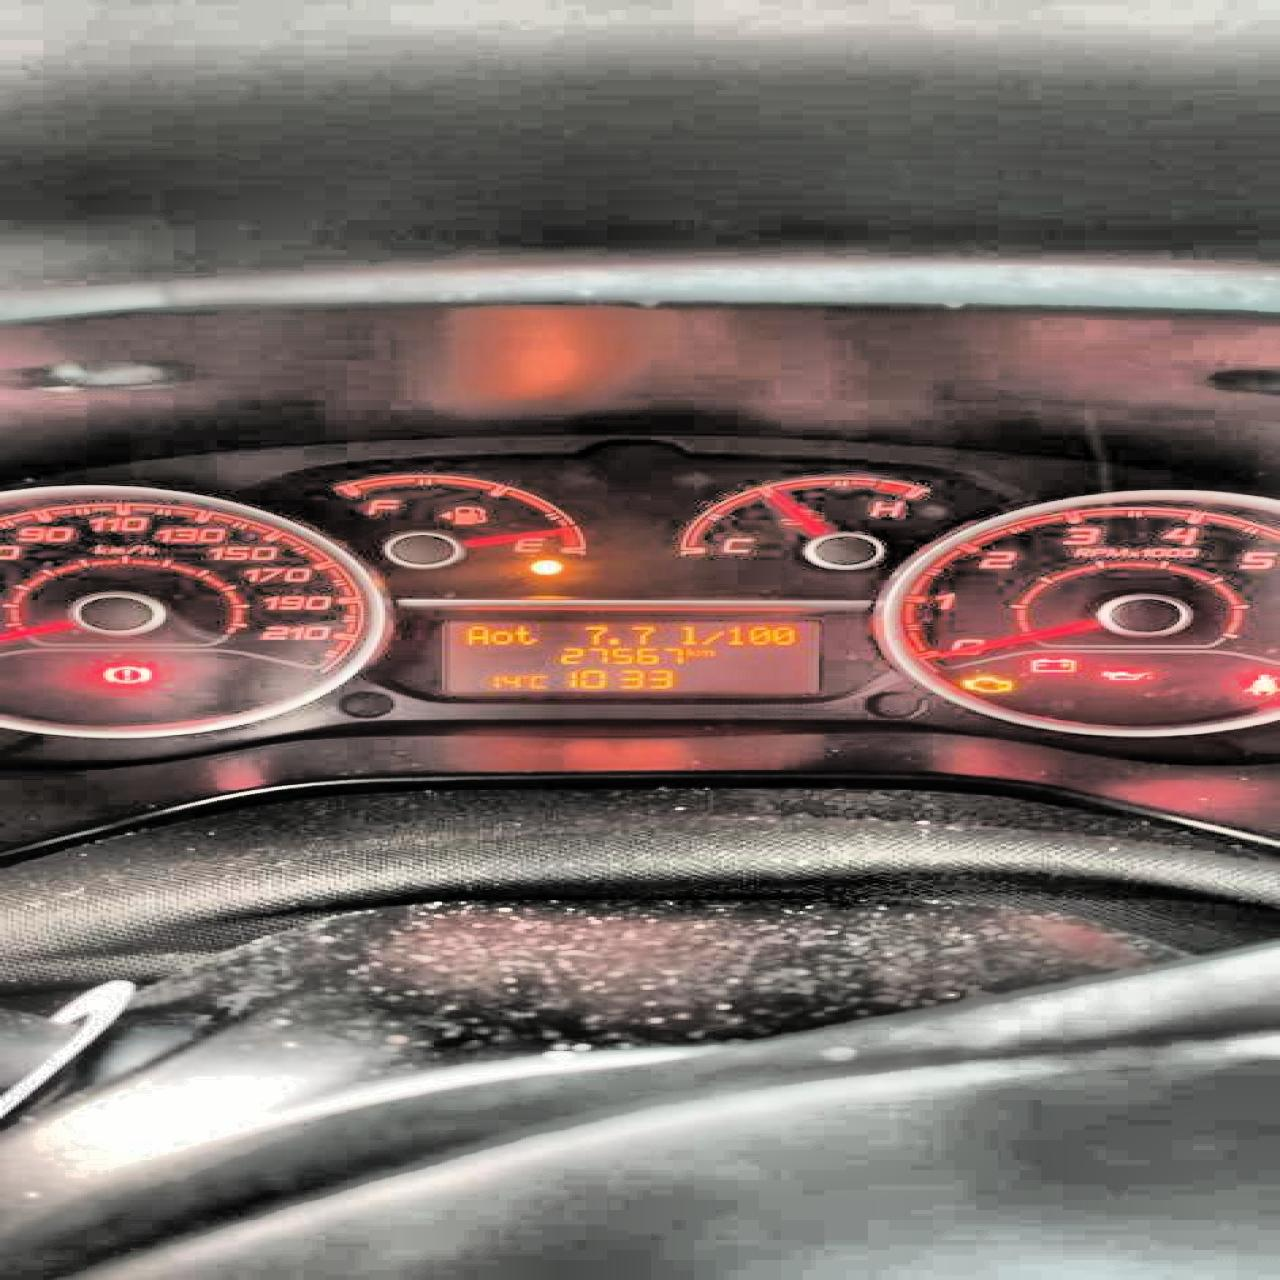-: (607, 638, 619, 645)
0: (578, 668, 605, 688), (770, 625, 795, 645), (745, 625, 770, 645)
1: (724, 625, 743, 645), (564, 670, 576, 688), (488, 675, 499, 687)
2: (556, 646, 580, 663)
3: (646, 667, 673, 688), (615, 668, 642, 688)
4: (502, 674, 518, 688)
5: (607, 647, 632, 663)
6: (632, 646, 656, 663)
7: (624, 625, 654, 644), (580, 625, 605, 645), (659, 646, 681, 663), (586, 647, 607, 662)
X: (512, 622, 537, 644), (464, 624, 485, 645), (673, 625, 696, 644), (489, 628, 512, 644), (700, 629, 724, 644), (526, 674, 545, 688), (694, 648, 713, 656), (683, 646, 694, 656)
odometer: (425, 614, 832, 700)
